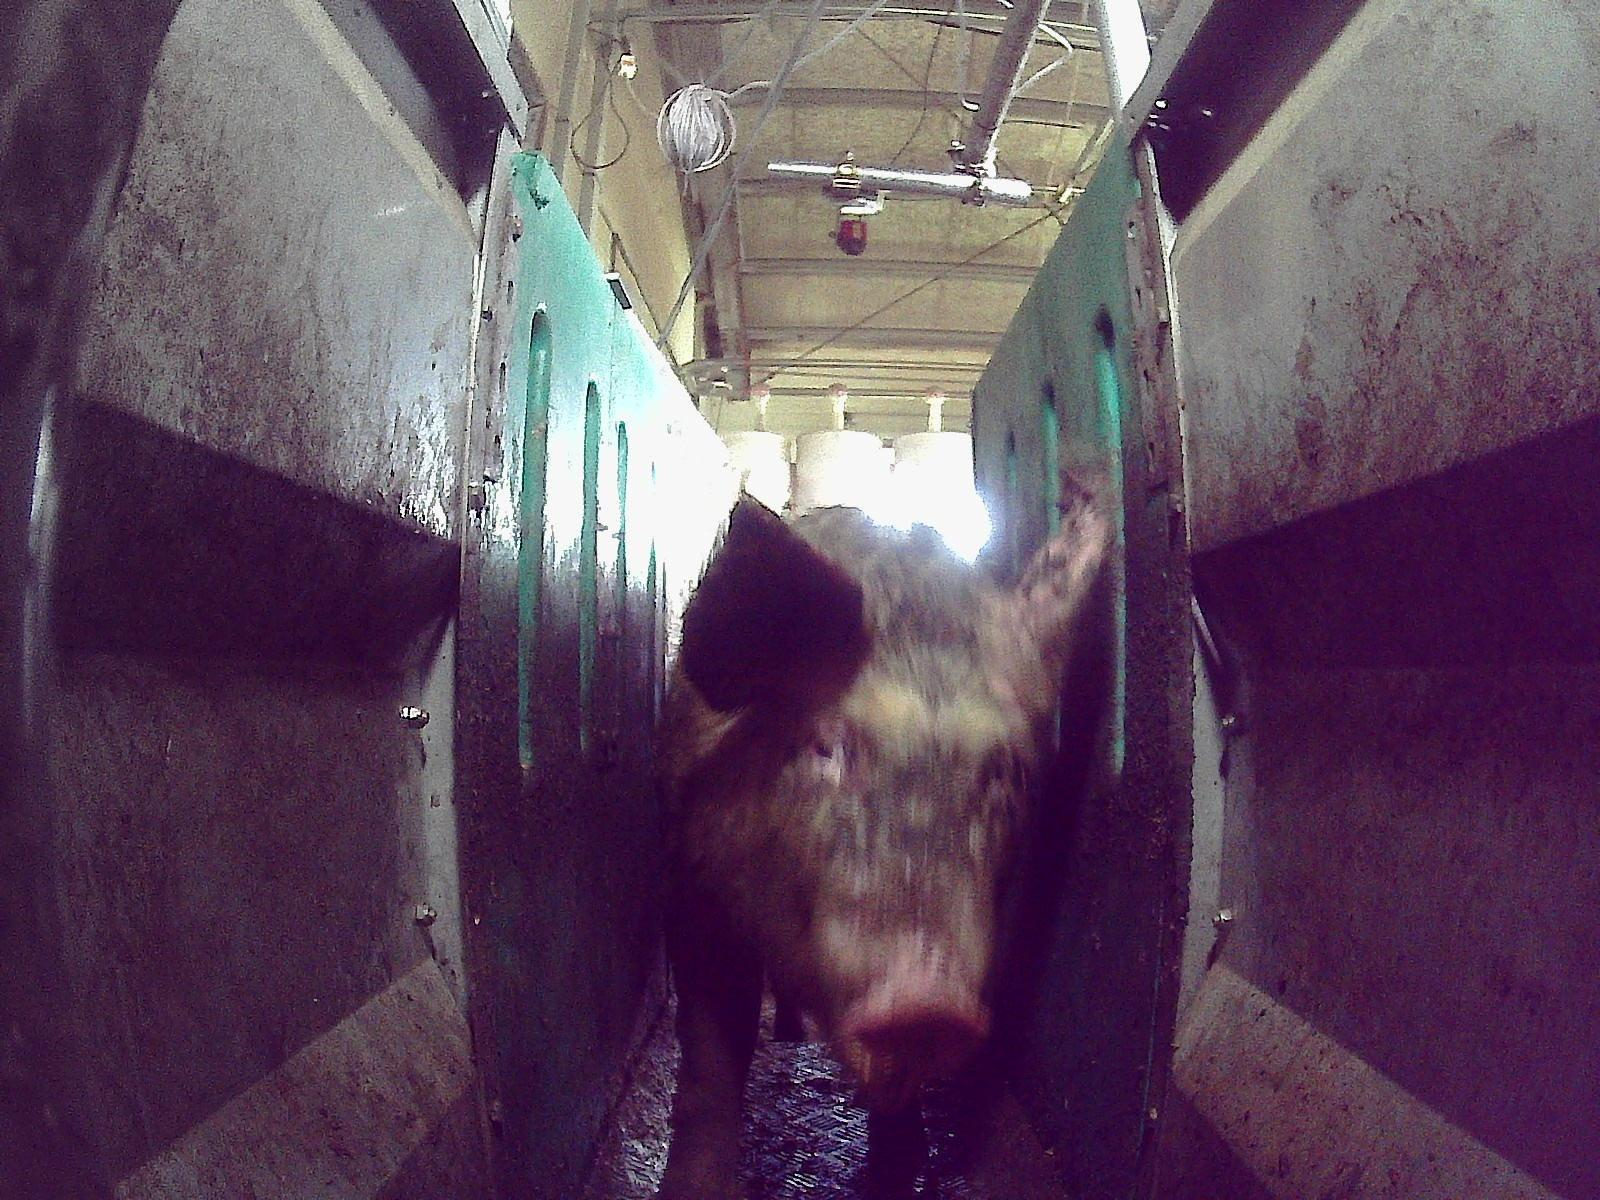Face: (744, 667, 1031, 1083)
